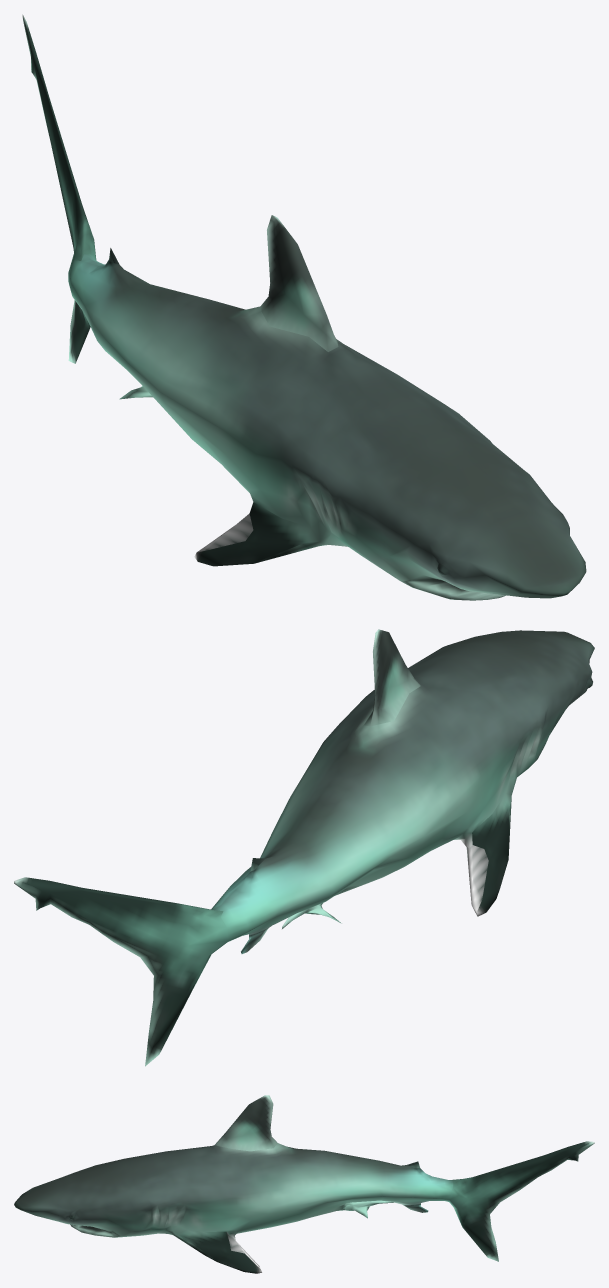
The model's file is sharkcatch.glb.
3 views of the same model, one above another, from view 1: azimuth 30°, elevation 25°; view 2: azimuth 150°, elevation 25°; view 3: azimuth 270°, elevation 25° (orthographic). The views are drawn at different scales.
Visible parts, largest first — view 1: Plane; view 2: Plane; view 3: Plane.
Boxes of the visible parts, x1,y1,x2,y2 form: Plane: (22, 14, 586, 600); Plane: (14, 629, 594, 1066); Plane: (14, 1095, 594, 1273).
Bounding box in the file's own units: 2.94 × 4.35 × 14.27.
Materials: 1 (1 with a texture image).
